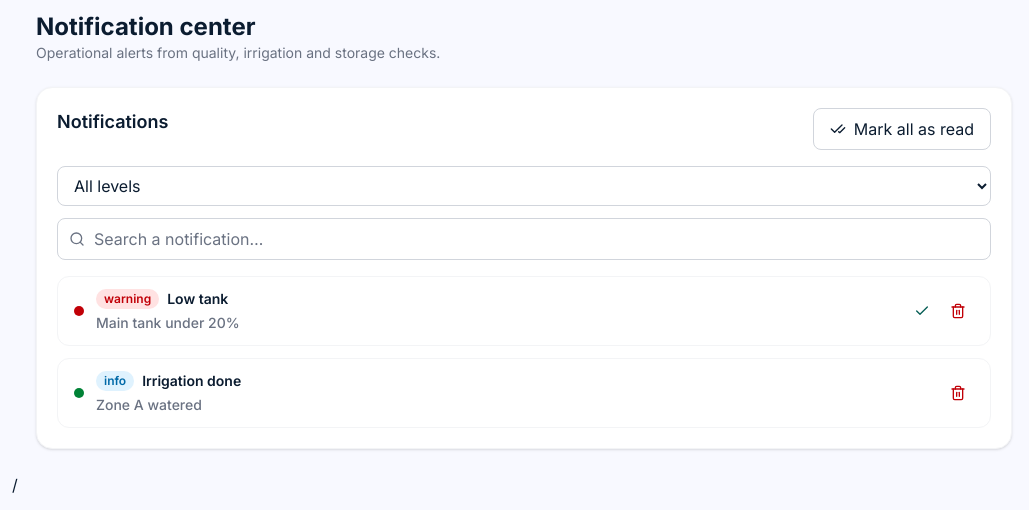
Test: NotificationsView › filters by level
expect the text "Low tank" is shown: met, box 167,290 -> 228,307
Select "info" in the dropdown named "Filter by level" at (524, 186), box 57,166 -> 991,206
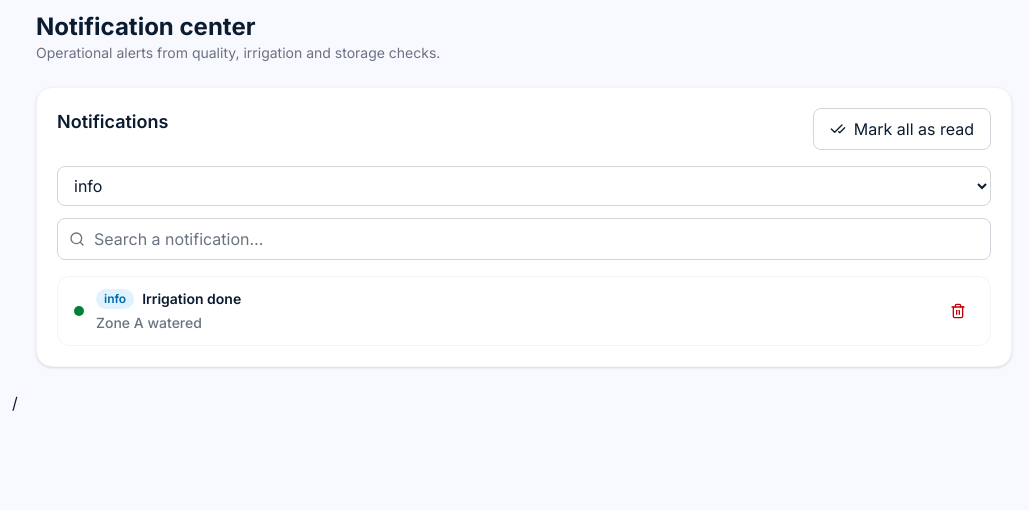
expect the text "Irrigation done" is shown: met, box 142,290 -> 241,307
expect the text "Low tank" is gone: met
